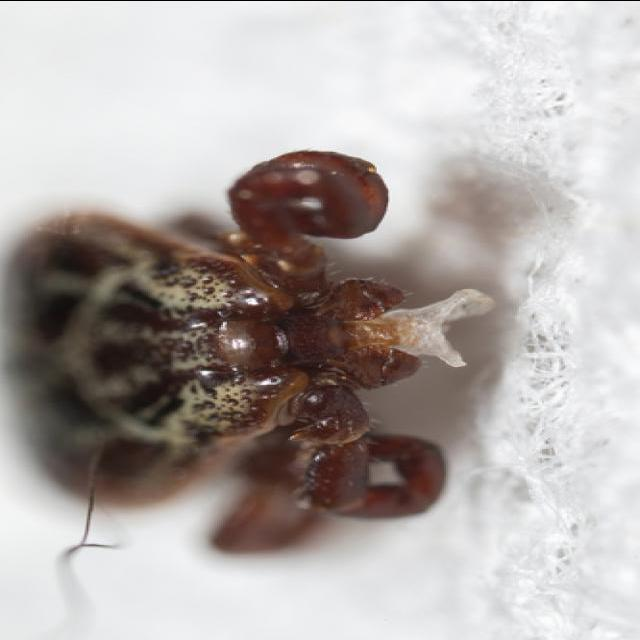Dermacentor Reticulatus-M: (10, 148, 496, 521)
